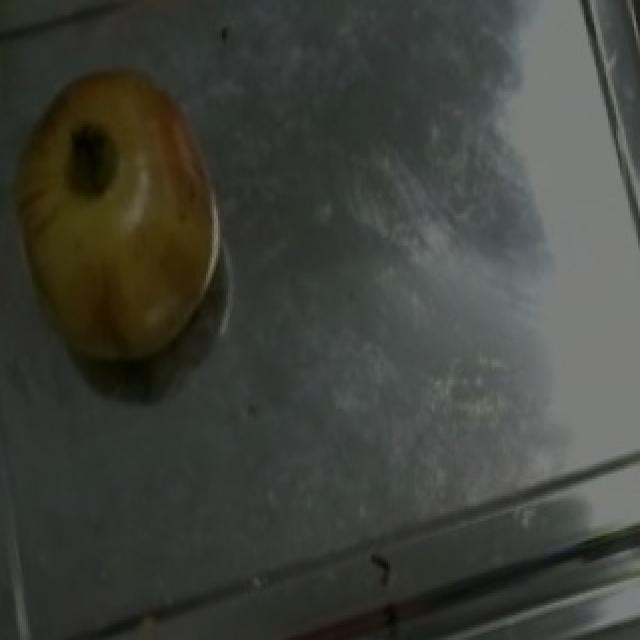fruit: (0, 35, 250, 283)
